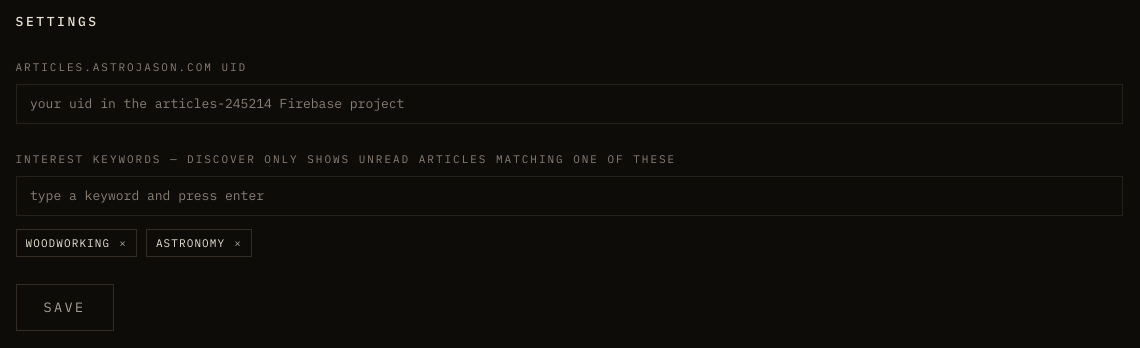
Scenario: Settings — editing › removes a keyword from the list
Click the button named "remove woodworking" at {"x": 123, "y": 243}, box [119,234,127,251]
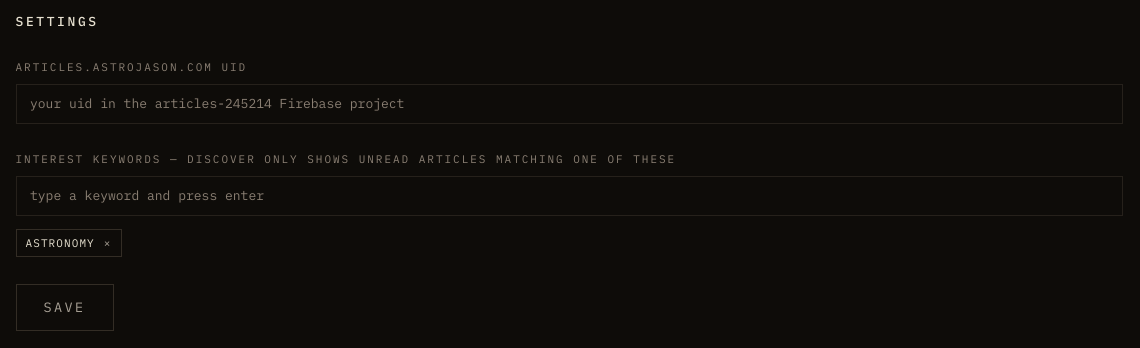
Expected: the text "astronomy" is shown, [26,236,95,250]
Now the text "woodworking" is gone
